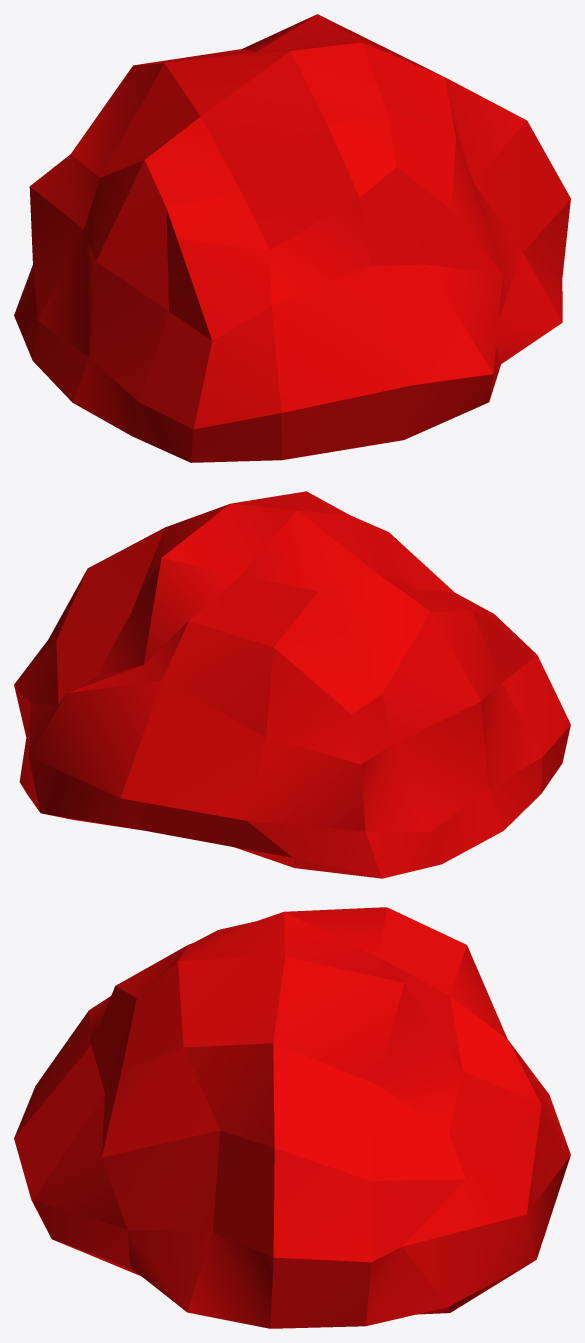
File: Bush01.fbx
3 views of the same model, one above another, from view 1: azimuth 30°, elevation 25°; view 2: azimuth 150°, elevation 25°; view 3: azimuth 270°, elevation 25° (orthographic). The views are drawn at different scales.
Visible parts, largest first — view 1: Bush_01; view 2: Bush_01; view 3: Bush_01.
Part boxes in pixels (x1,y1,x2,y2): Bush_01: [14, 14, 570, 462]; Bush_01: [14, 491, 570, 878]; Bush_01: [14, 907, 570, 1328].
Size of the model in its own units: 2.25 by 1.29 by 2.19.
